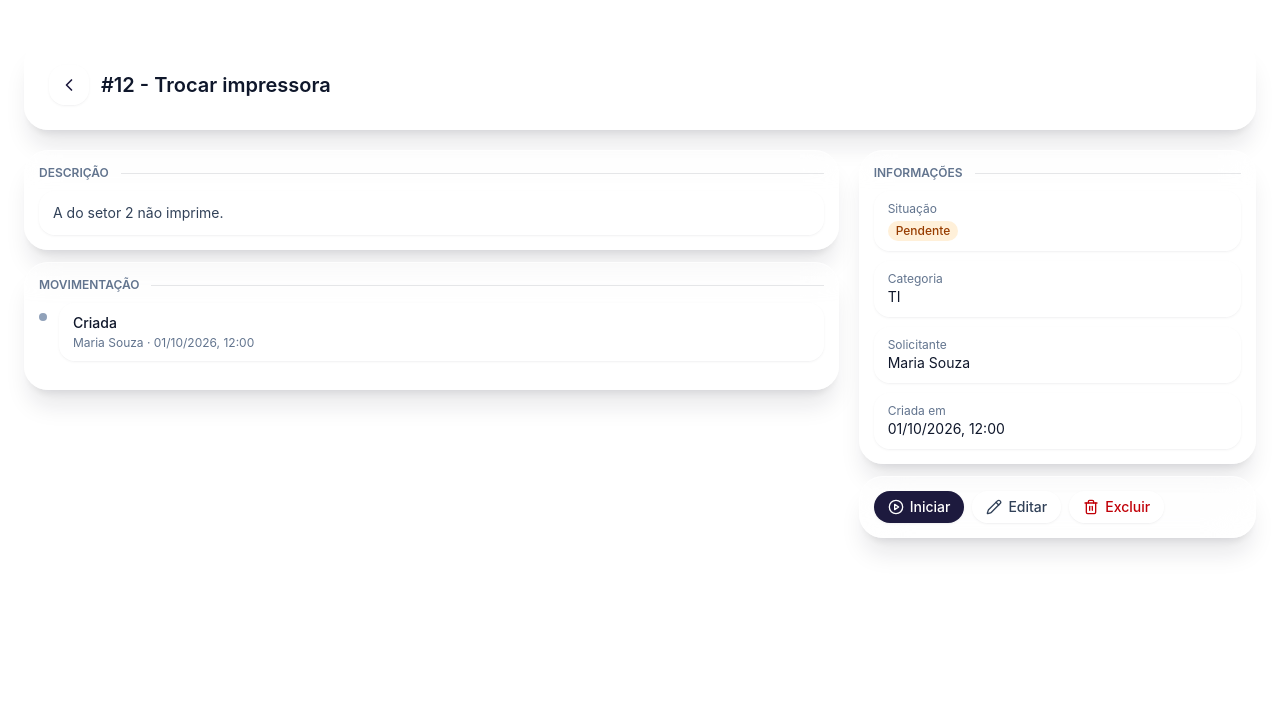
Scenario: DemandDetailView › inicia a pendente no clique e passa a mostrar a solicitação em andamento
The image size is (1280, 720).
Click the button "Iniciar": (919, 507) [874, 491, 964, 523]
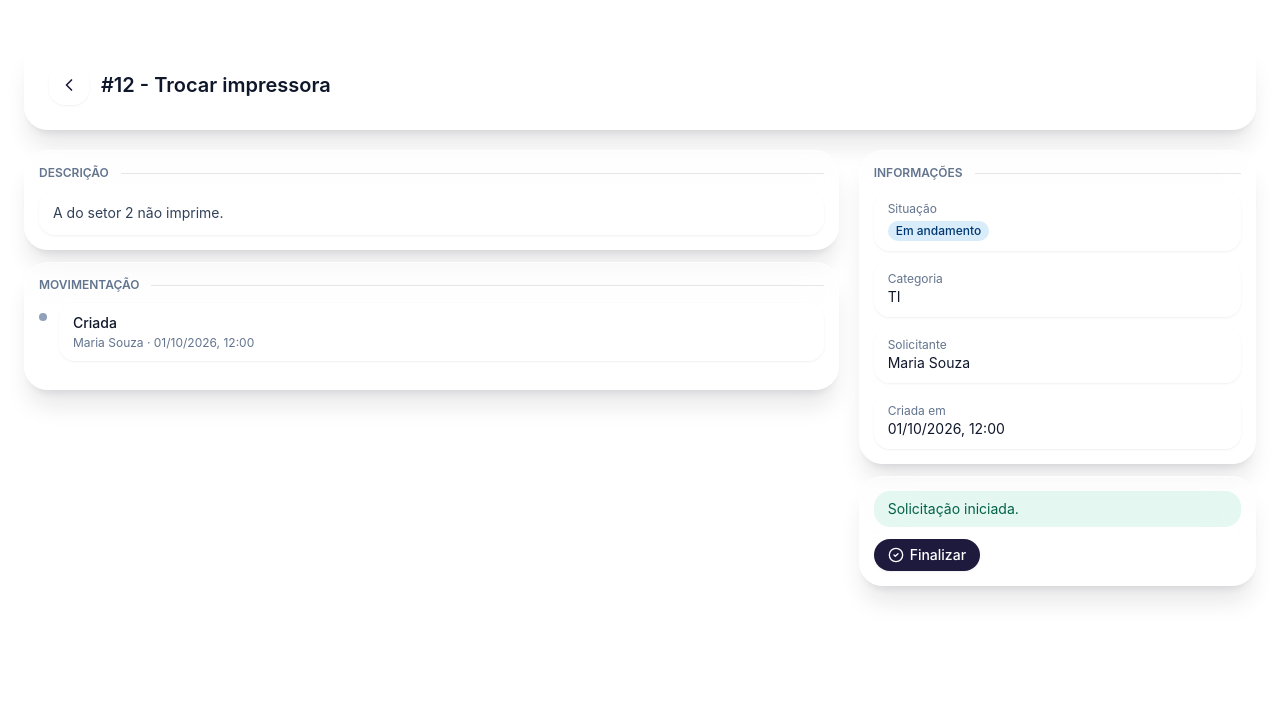
Expected: the button "Finalizar" is shown, [874, 539, 980, 571]
Expected: the text "Solicitação iniciada." is shown, [874, 491, 1241, 527]
Expected: the element that starts with "Informações" shows "Em andamento", [896, 223, 981, 238]
